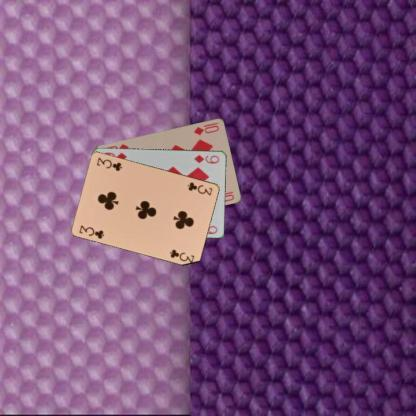10d: (191, 120, 220, 136)
3c: (185, 179, 214, 197), (77, 222, 106, 240)
9d: (192, 152, 221, 164)
